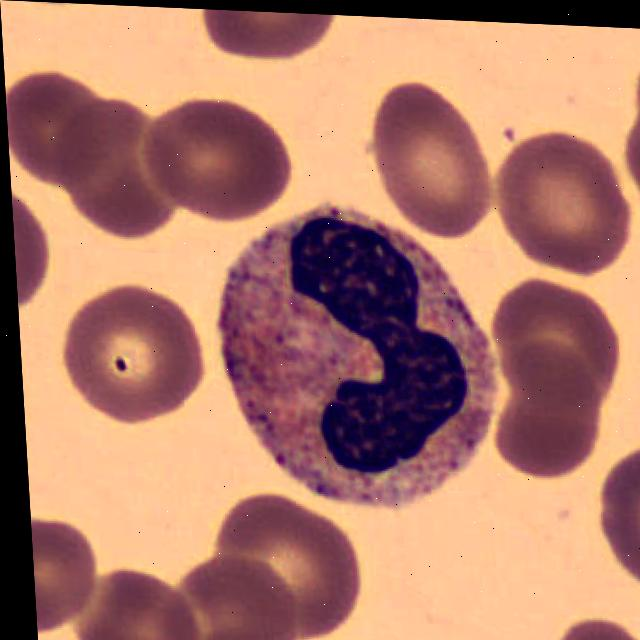neutrophil: (210, 199, 511, 512)
rbc: (198, 489, 374, 640), (477, 117, 640, 276), (356, 72, 497, 252), (57, 280, 215, 430), (130, 88, 295, 225), (483, 273, 638, 416), (49, 99, 186, 249), (496, 336, 621, 482), (4, 62, 119, 190), (158, 548, 299, 640), (69, 569, 229, 640), (29, 488, 95, 640), (189, 8, 357, 63), (590, 435, 640, 618), (11, 181, 55, 323), (614, 85, 640, 232), (548, 605, 640, 640), (413, 18, 554, 38), (0, 0, 137, 19), (619, 28, 640, 120)
